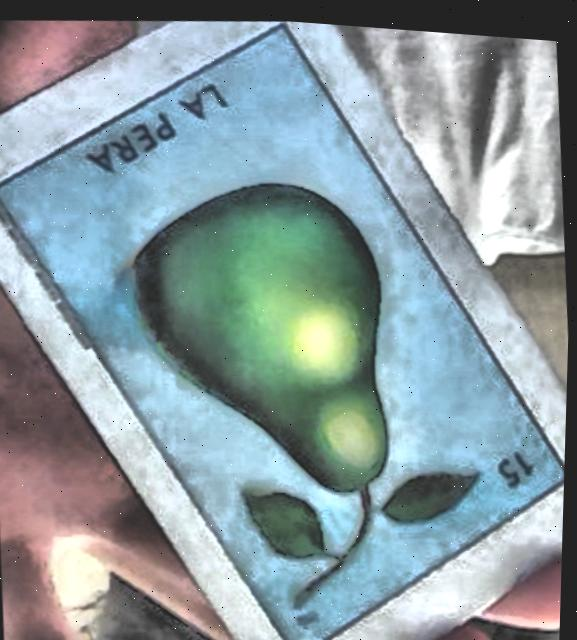La Pera: (0, 22, 567, 640)
